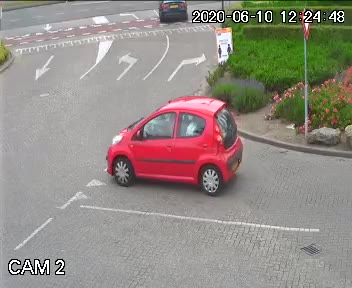car: (99, 90, 241, 188), (152, 0, 191, 28)
